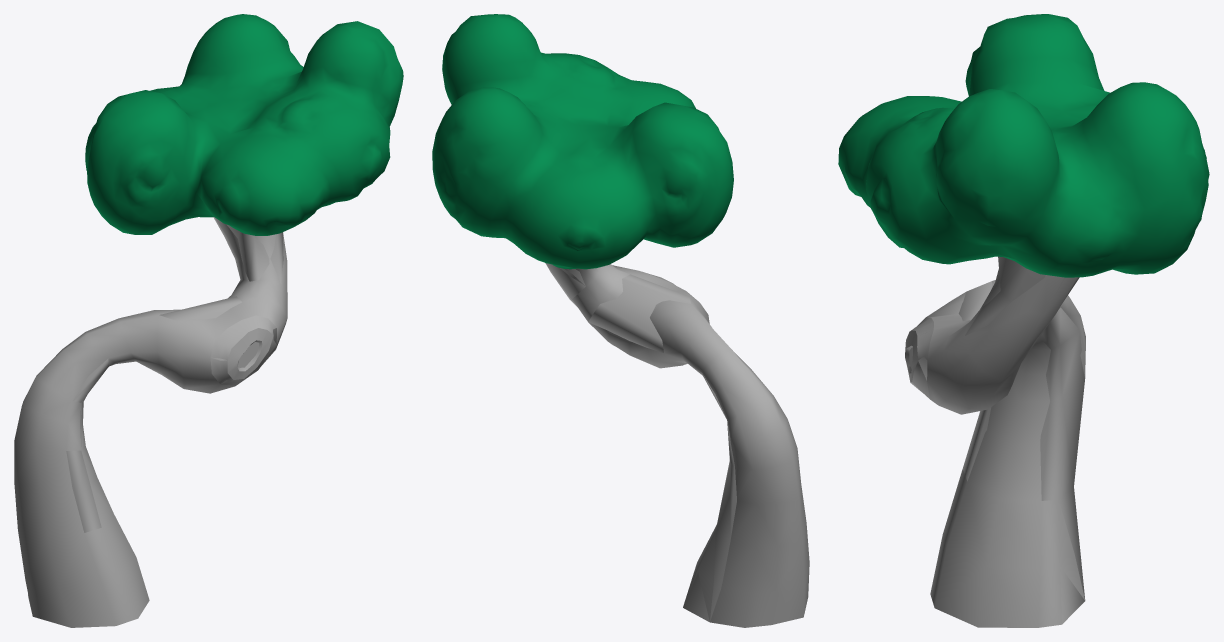
Rendered from Sworly_Tree.fbx.
3 renders of one model, left to right at view 1: azimuth 30°, elevation 25°; view 2: azimuth 150°, elevation 25°; view 3: azimuth 270°, elevation 25°, orthographic. The views are drawn at different scales.
Parts seen in each view (by area): view 1: Tree_Canopy_LP, Tree_Base_LP, COL_Tree_Base; view 2: Tree_Canopy_LP, Tree_Base_LP, COL_Tree_Base; view 3: Tree_Canopy_LP, Tree_Base_LP, COL_Tree_Base.
Part boxes in pixels (x1,y1,x2,y2): Tree_Canopy_LP: (85, 14, 403, 235); Tree_Base_LP: (14, 217, 287, 627); COL_Tree_Base: (66, 224, 283, 532); Tree_Canopy_LP: (432, 14, 733, 269); Tree_Base_LP: (545, 263, 809, 627); COL_Tree_Base: (546, 263, 736, 621); Tree_Canopy_LP: (838, 14, 1209, 277); Tree_Base_LP: (905, 269, 1085, 627); COL_Tree_Base: (909, 256, 1085, 624).
Bounding box in the file's own units: 0.0667 × 0.0904 × 0.0458.
